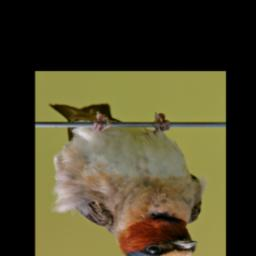Swallow: (48, 102, 208, 256)
